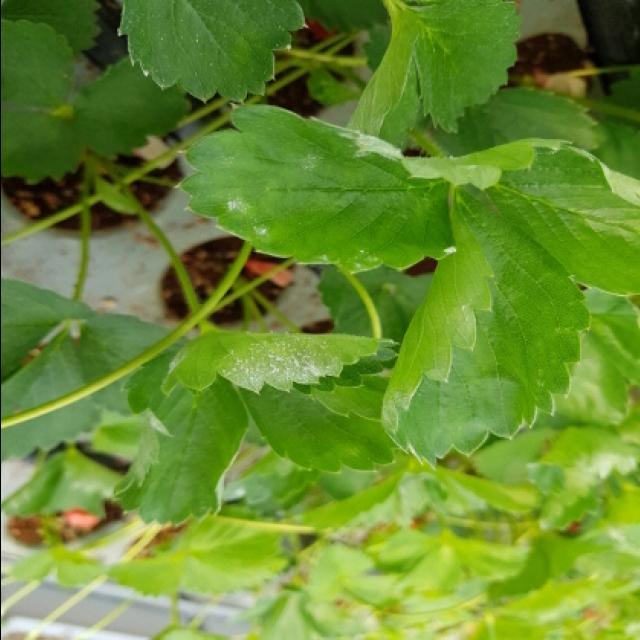Powdery Mildew Leaf: (175, 102, 458, 275), (158, 331, 400, 397)
